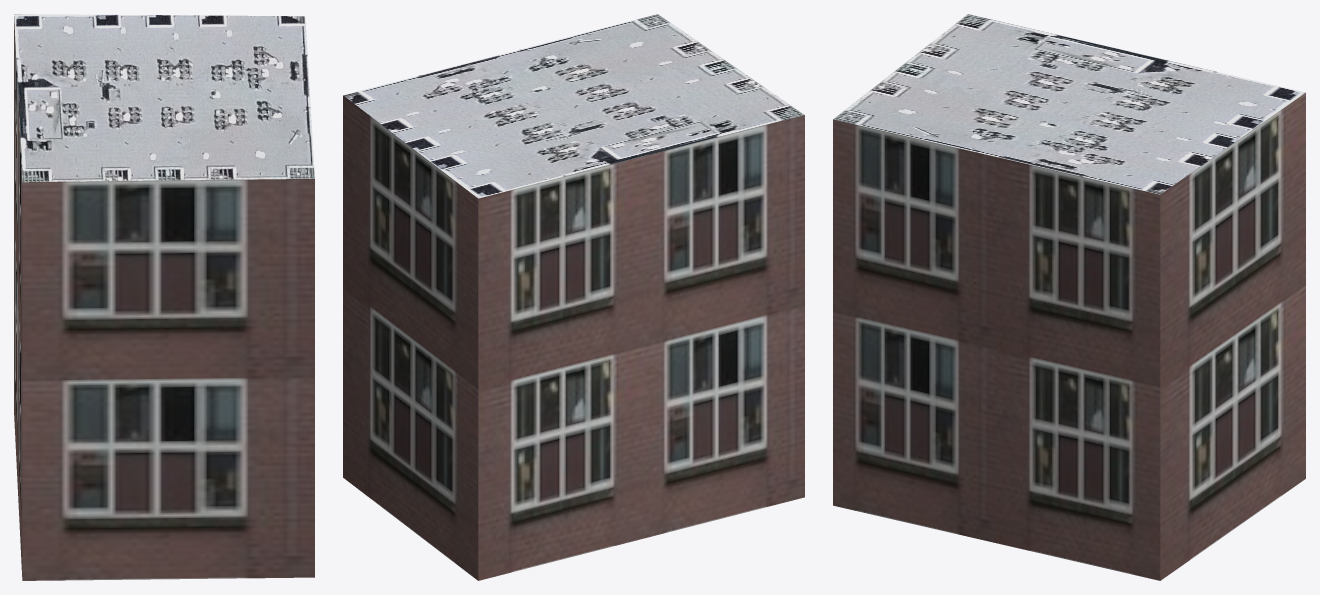
The model's file is ResTex__1005.fbx.
3 renders of one model, left to right at view 1: azimuth 30°, elevation 25°; view 2: azimuth 150°, elevation 25°; view 3: azimuth 270°, elevation 25°, orthographic. The views are drawn at different scales.
Parts seen in each view (by area): view 1: CityEngineMaterial_12_m, CityEngineMaterial_8_m; view 2: CityEngineMaterial_12_m, CityEngineMaterial_8_m; view 3: CityEngineMaterial_12_m, CityEngineMaterial_8_m.
Boxes of the visible parts, x1,y1,x2,y2 form: CityEngineMaterial_12_m: (14, 16, 314, 580); CityEngineMaterial_8_m: (14, 14, 314, 182); CityEngineMaterial_12_m: (343, 95, 804, 580); CityEngineMaterial_8_m: (343, 14, 804, 198); CityEngineMaterial_12_m: (833, 93, 1305, 580); CityEngineMaterial_8_m: (833, 14, 1305, 194).
Size of the model in its own units: 6.02 by 6 by 6.66.
Materials: 2 (2 with a texture image).
